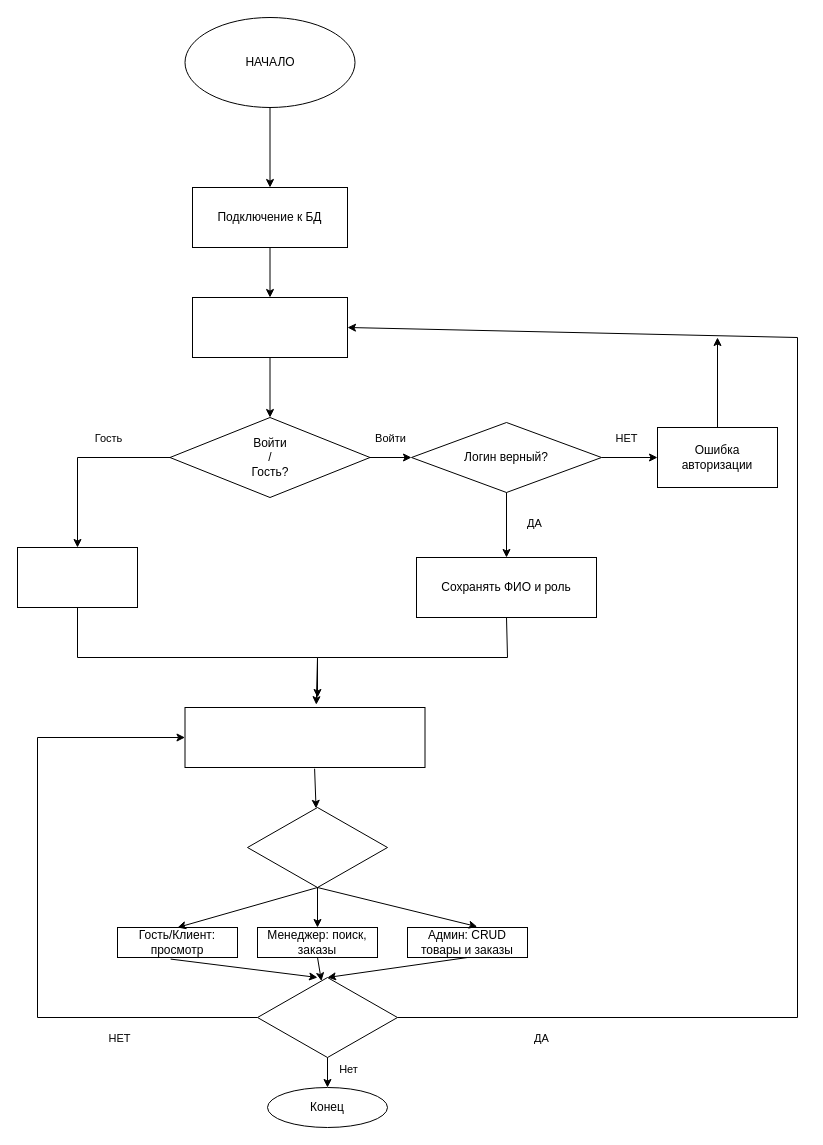
The diagram is 823 pixels wide and 1145 high, and some of its shapes have lost their labels. Each missing label, with the centre of its shape:
Авторизация (окно входа: логин и пароль): point 270,327
Выход?: point 327,1017
Роль: Гость: point 77,577
Роль?: point 317,847
Список товаров (загрузка из БД): point 304,737
